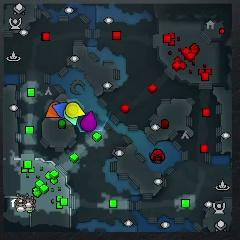p1: (53, 103, 68, 118)
p2: (64, 108, 78, 126)
p3: (81, 111, 96, 132)
p4: (66, 101, 86, 117)
p5: (45, 102, 60, 118)
